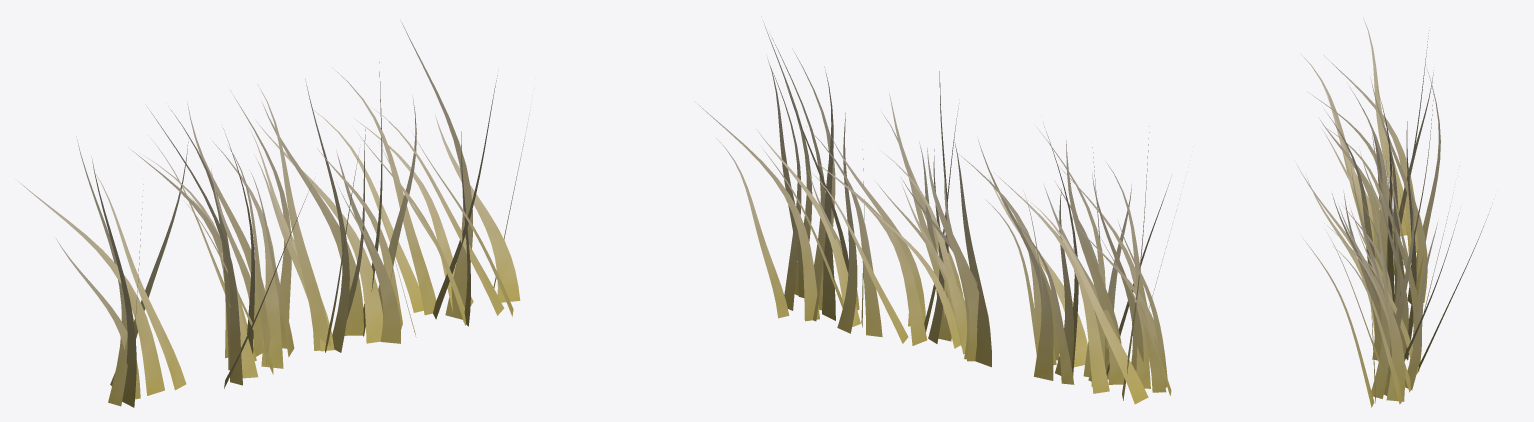
The model's file is mesh-plant-004-copper-blade_LOD0.glb.
The picture shows the model from 3 angles, left to right: view 1: azimuth 30°, elevation 25°; view 2: azimuth 150°, elevation 25°; view 3: azimuth 270°, elevation 25°; orthographic projection. The views are drawn at different scales.
Visible parts, largest first — view 1: geometry_0; view 2: geometry_0; view 3: geometry_0.
Boxes of the visible parts, <box> form: geometry_0: <box>17,20,530,407</box>; geometry_0: <box>695,21,1176,404</box>; geometry_0: <box>1294,17,1490,407</box>.
Bounding box in the file's own units: 2.53 × 1.09 × 1.04.
